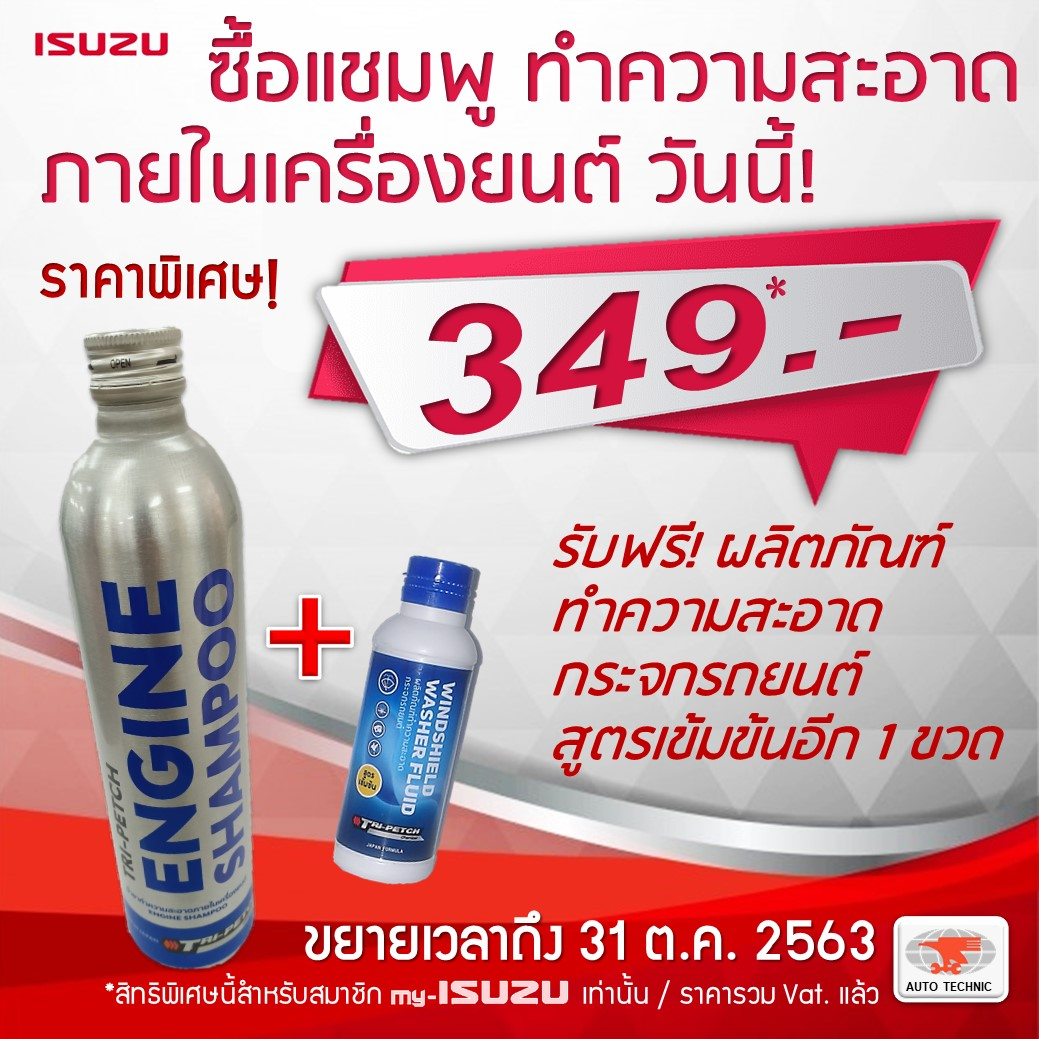Cleaning_solution: (54, 319, 264, 978), (327, 545, 490, 887)
